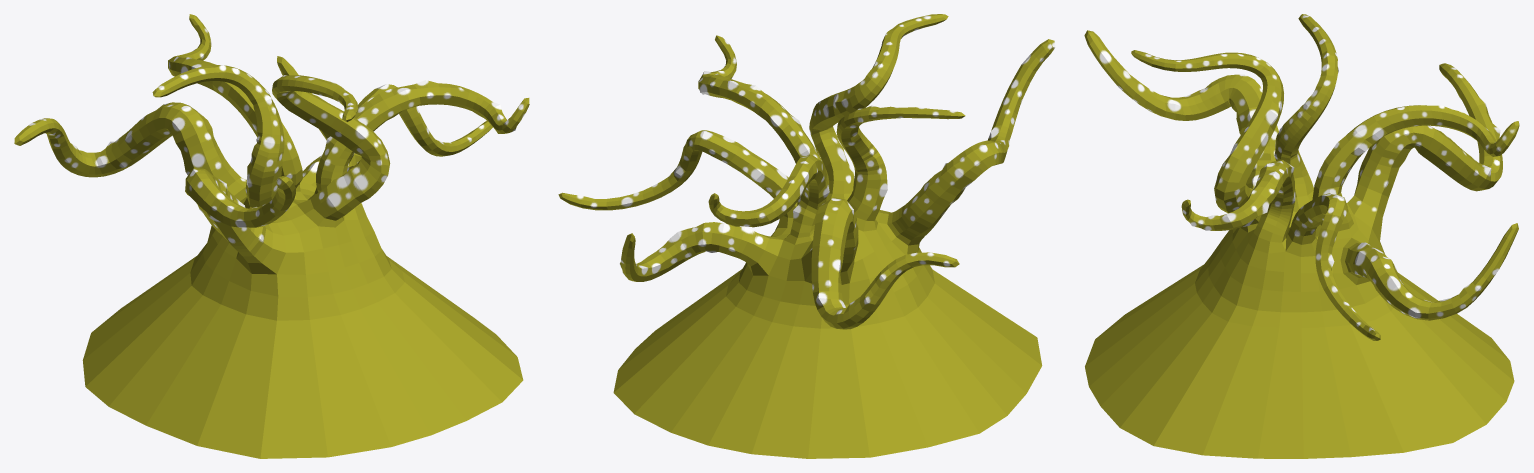
The model's file is coral_001.fbx.
The picture shows the model from 3 angles, left to right: view 1: azimuth 30°, elevation 25°; view 2: azimuth 150°, elevation 25°; view 3: azimuth 270°, elevation 25°; orthographic projection. The views are drawn at different scales.
Visible parts, largest first — view 1: mesh_9; view 2: mesh_9; view 3: mesh_9.
Part boxes in pixels (x1,y1,x2,y2): mesh_9: [14, 14, 529, 458]; mesh_9: [558, 14, 1055, 458]; mesh_9: [1084, 14, 1519, 458].
Size of the model in its own units: 30.14 by 20.4 by 26.05.
